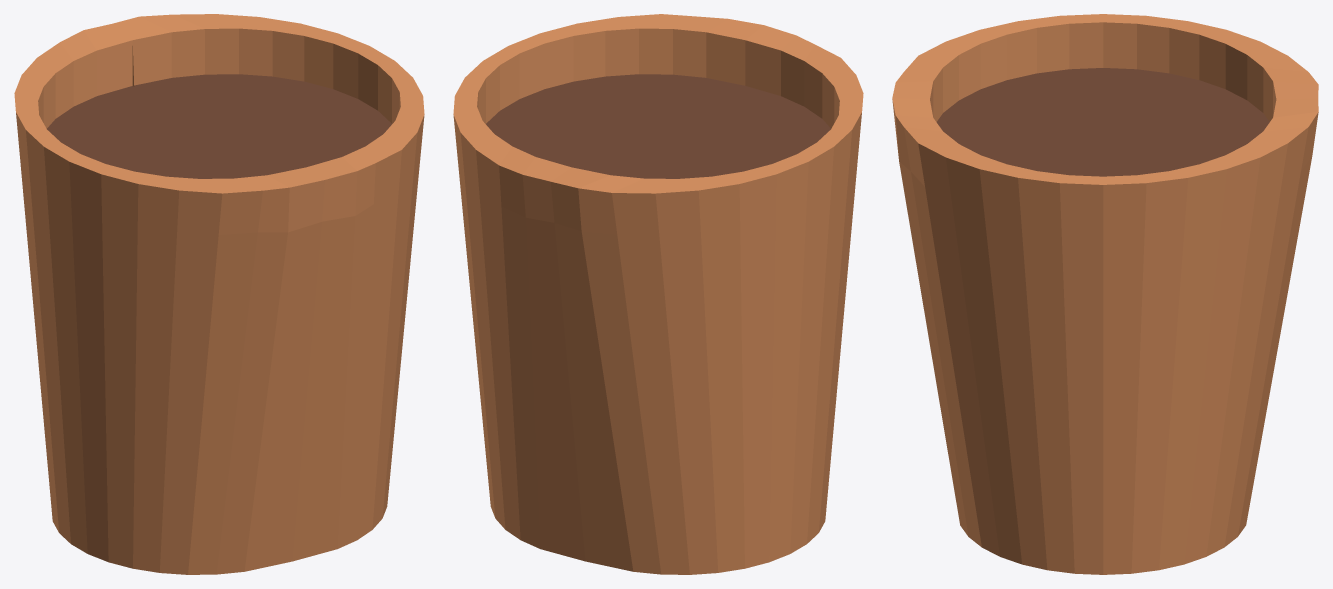
The model's file is MacetaCorta.fbx.
3 views of the same model, side by side, from view 1: azimuth 30°, elevation 25°; view 2: azimuth 150°, elevation 25°; view 3: azimuth 270°, elevation 25° (orthographic).
Visible parts, largest first — view 1: Cylinder; view 2: Cylinder; view 3: Cylinder.
Boxes of the visible parts, x1=… form: Cylinder: x1=14, y1=14, x2=424, y2=574; Cylinder: x1=453, y1=14, x2=863, y2=574; Cylinder: x1=892, y1=14, x2=1318, y2=574.
Bounding box in the file's own units: 24.93 × 27.5 × 26.27.
